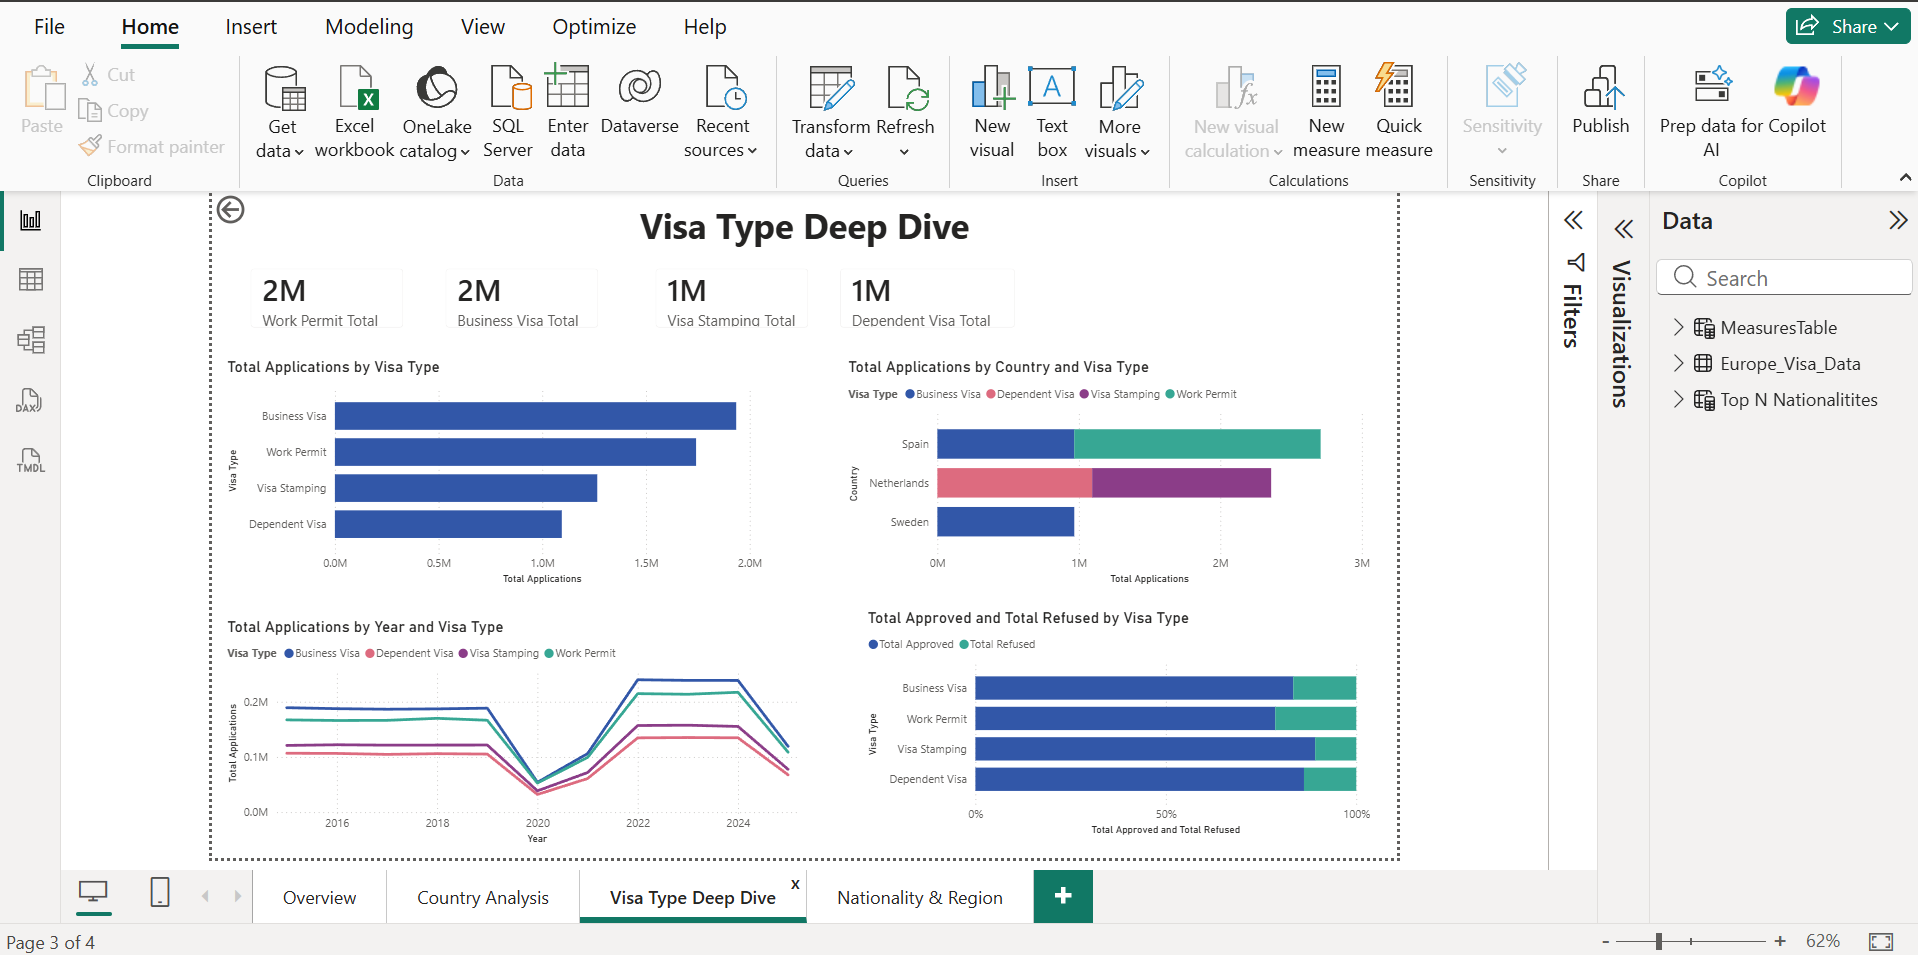

The page's visual inventory and layout, read from the dashboard file:
{"tool":"powerbi","page":{"name":"Visa Type Deep Dive","canvas":[1280,720],"ordinal":2},"visuals":[{"type":"cardVisual","fields":{"Data":["MeasuresTable.Work Permit Total"]},"box":[24.3,66.4,199.2,98.8],"z":0},{"type":"cardVisual","fields":{"Data":["MeasuresTable.Business Visa Total"]},"box":[234.8,66.4,199.2,98.8],"z":1000},{"type":"cardVisual","fields":{"Data":["MeasuresTable.Visa Stamping Total"]},"box":[461.5,66.4,199.2,98.8],"z":2000},{"type":"cardVisual","fields":{"Data":["MeasuresTable.Dependent Visa Total"]},"box":[660.6,66.4,223.5,98.8],"z":3000},{"type":"clusteredBarChart","fields":{"Category":["Europe_Visa_Data.Visa Type"],"Y":["MeasuresTable.Total Applications"]},"box":[11.3,179.7,587.8,249.4],"z":4000},{"type":"lineChart","fields":{"Category":["Europe_Visa_Data.Year"],"Y":["MeasuresTable.Total Applications"],"Series":["Europe_Visa_Data.Visa Type"]},"box":[11.3,459.9,628.3,249.4],"z":5000},{"type":"barChart","fields":{"Category":["Europe_Visa_Data.Country"],"Y":["MeasuresTable.Total Applications"],"Series":["Europe_Visa_Data.Visa Type"]},"box":[681.7,179.7,573.2,249.4],"z":6000},{"type":"hundredPercentStackedBarChart","fields":{"Category":["Europe_Visa_Data.Visa Type"],"Y":["MeasuresTable.Total Approved","MeasuresTable.Total Refused"]},"box":[702.7,450.1,552.2,249.4],"z":7000},{"type":"actionButton","box":[0,0,100,40],"z":8000}]}

Visuals, with their boxes on the page's 1280x720 design canvas (x1, y1, x2, y2). These are canvas units, not pixel positions in the 1918x955 screenshot, which may show the page scaled, cropped or inside an application window:
cardVisual - MeasuresTable.Work Permit Total: bbox=[24, 66, 224, 165]
cardVisual - MeasuresTable.Business Visa Total: bbox=[235, 66, 434, 165]
cardVisual - MeasuresTable.Visa Stamping Total: bbox=[462, 66, 661, 165]
cardVisual - MeasuresTable.Dependent Visa Total: bbox=[661, 66, 884, 165]
clusteredBarChart - Europe_Visa_Data.Visa Type x MeasuresTable.Total Applications: bbox=[11, 180, 599, 429]
lineChart - Europe_Visa_Data.Year x MeasuresTable.Total Applications: bbox=[11, 460, 640, 709]
barChart - Europe_Visa_Data.Country x MeasuresTable.Total Applications: bbox=[682, 180, 1255, 429]
hundredPercentStackedBarChart - Europe_Visa_Data.Visa Type x MeasuresTable.Total Approved: bbox=[703, 450, 1255, 700]
actionButton: bbox=[0, 0, 100, 40]
